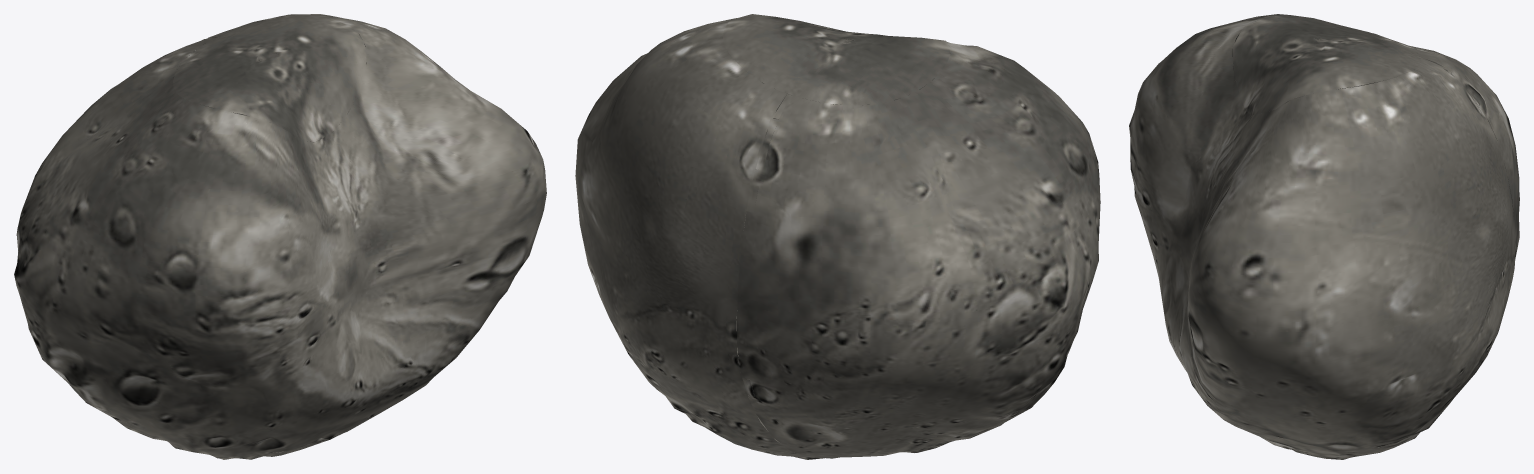
The model's file is Deimos.fbx.
The picture shows the model from 3 angles, left to right: view 1: azimuth 30°, elevation 25°; view 2: azimuth 150°, elevation 25°; view 3: azimuth 270°, elevation 25°; orthographic projection. The views are drawn at different scales.
Visible parts, largest first — view 1: deimos; view 2: deimos; view 3: deimos.
Boxes of the visible parts, <box> form: deimos: <box>14,14,546,459</box>; deimos: <box>575,14,1100,459</box>; deimos: <box>1129,14,1519,459</box>.
Size of the model in its own units: 1503 by 1188 by 1052.
Materials: 1 (1 with a texture image).
